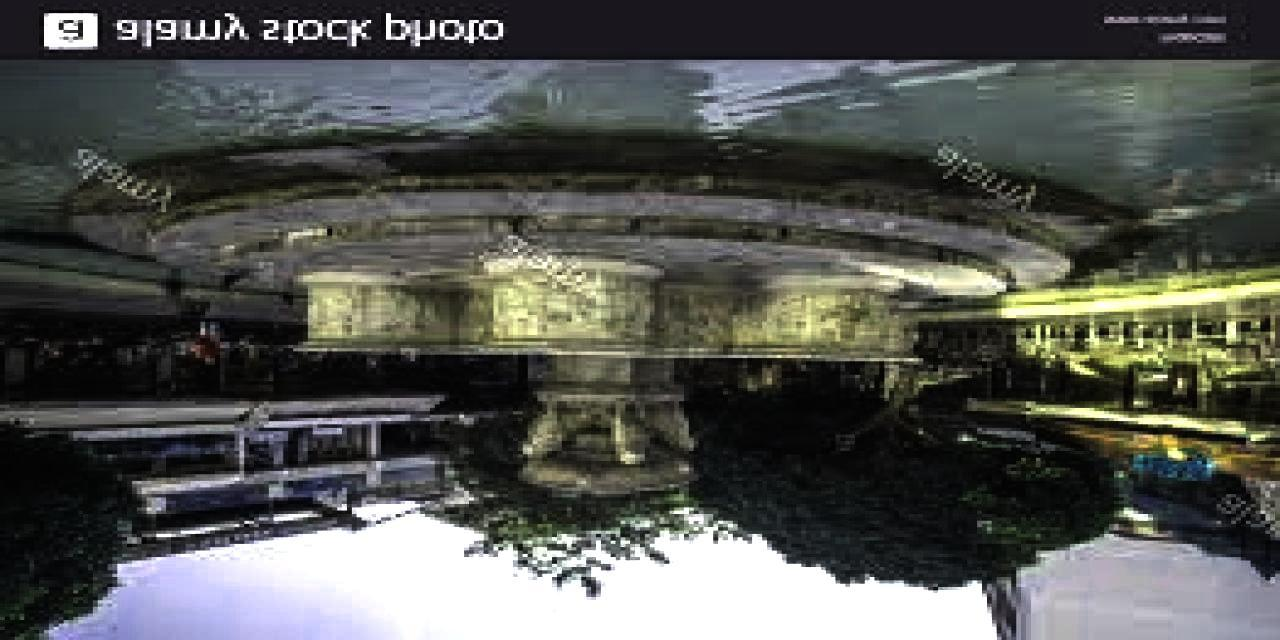Liontaria: (308, 244, 928, 494)
